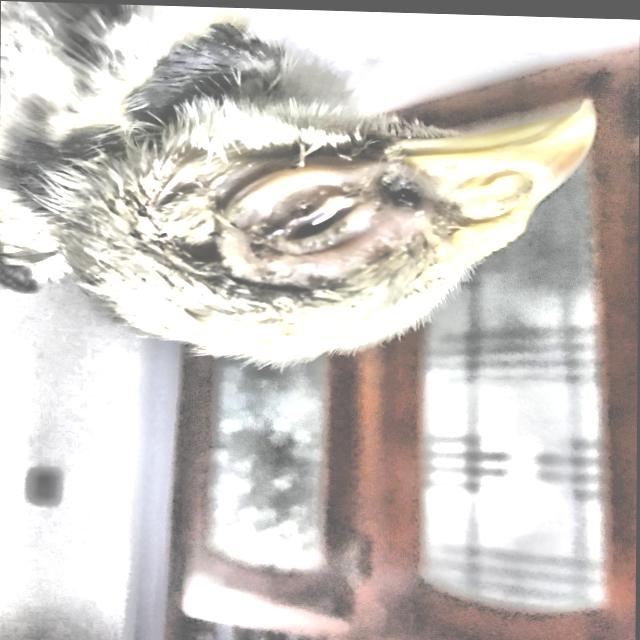Coryza: (123, 36, 640, 383)
